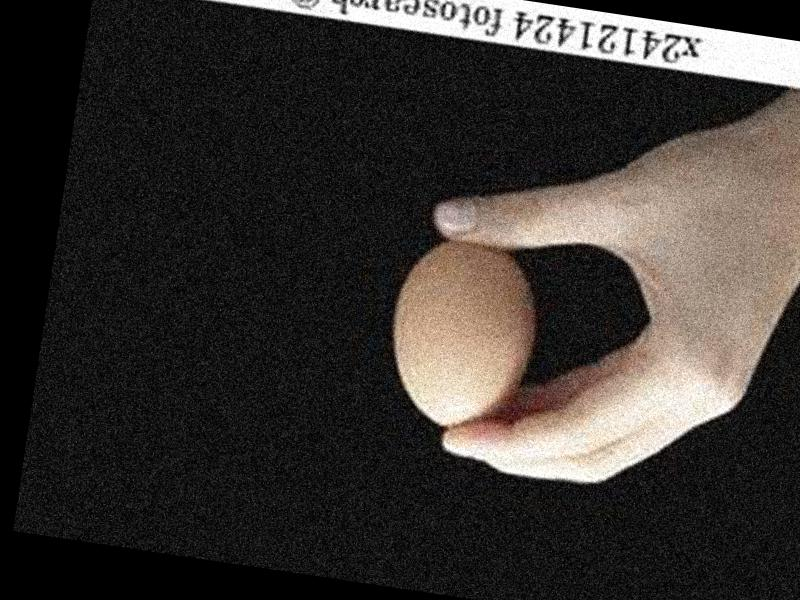Eggs: (380, 232, 545, 442)
